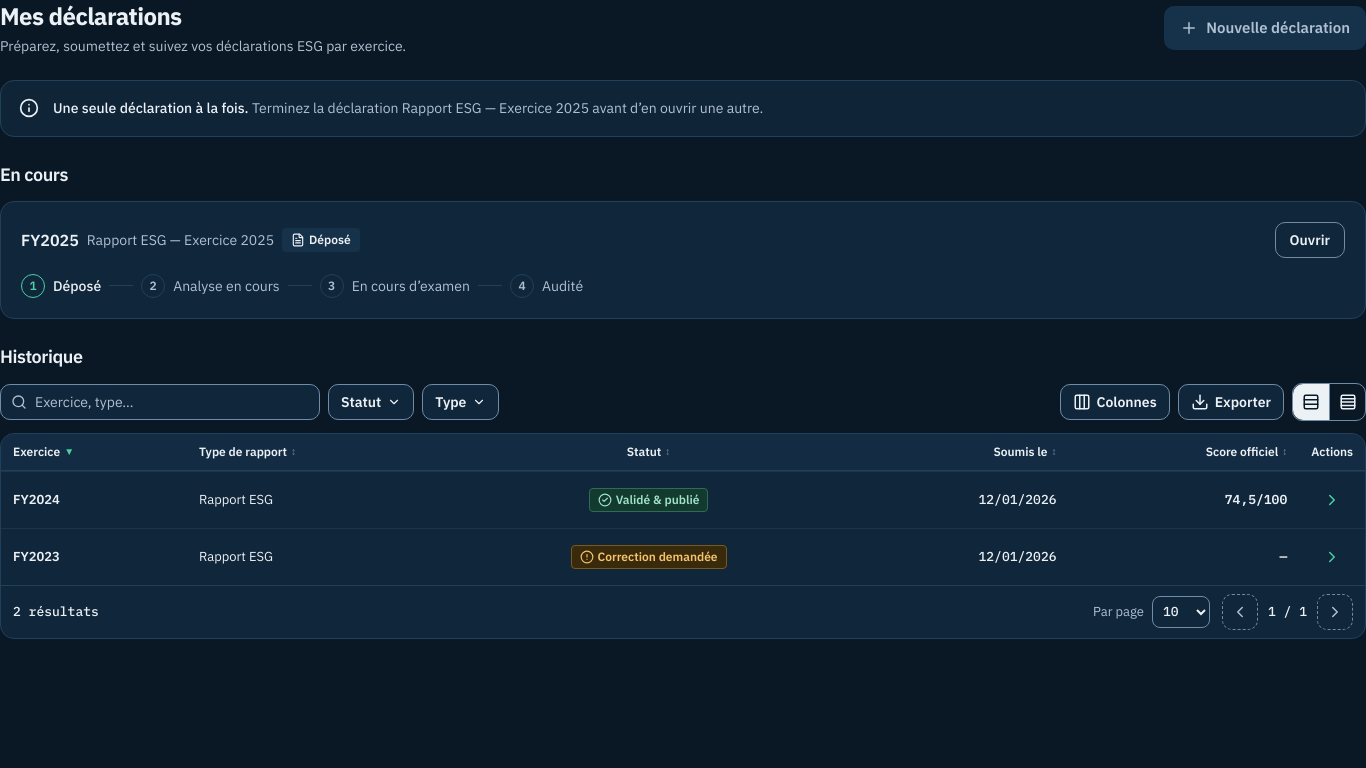
Test: Espace Entreprise — Mes déclarations › une seule session en cours, l’historique avec score, empreinte et synthèse
expect the text "FY2025" is shown: met, box [21,228,79,252]
expect the text "Déposé" is shown 2 times: met, box [282,228,360,252]; [53,276,101,296]
Click the button "Statut".
click(371, 402)  # box [328,384,414,420]
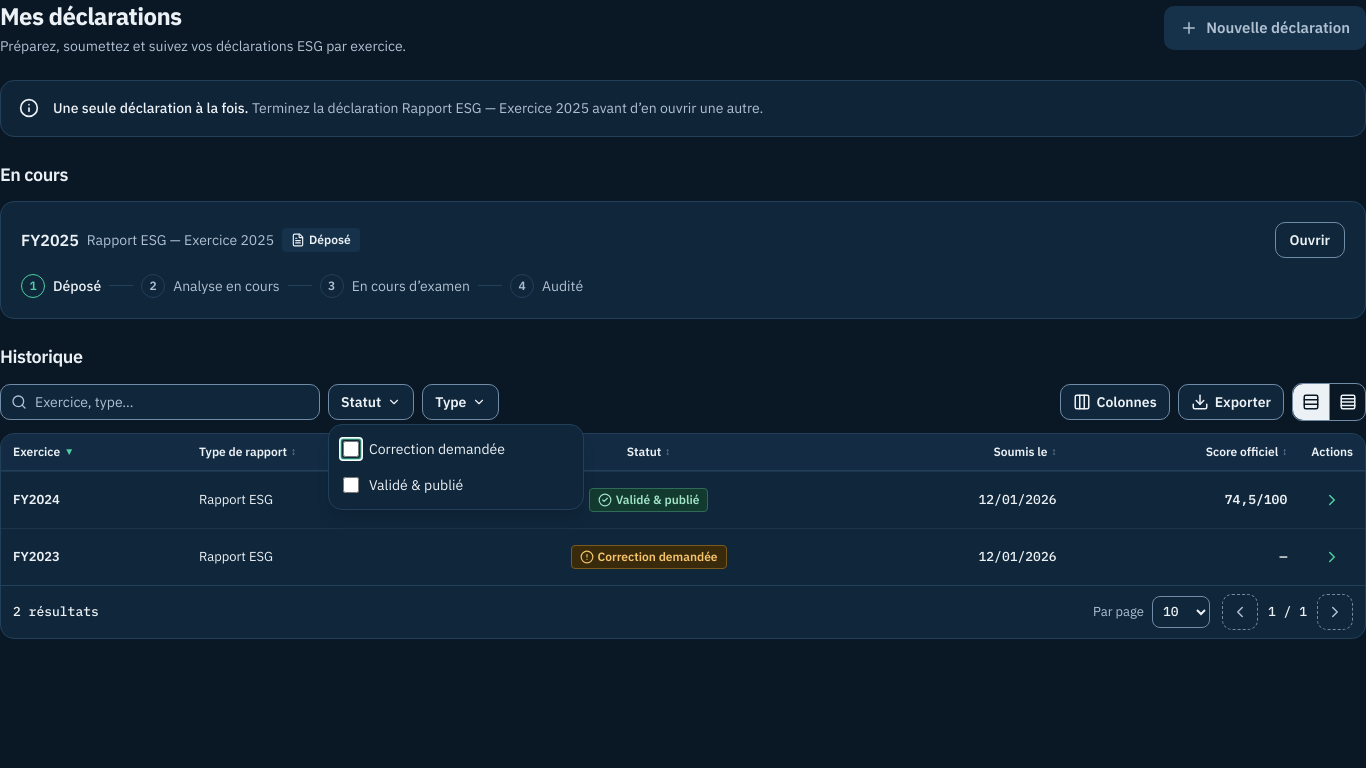
expect the checkbox labelled "Validé & publié" is shown: met, box [343,477,359,493]
Press Escape
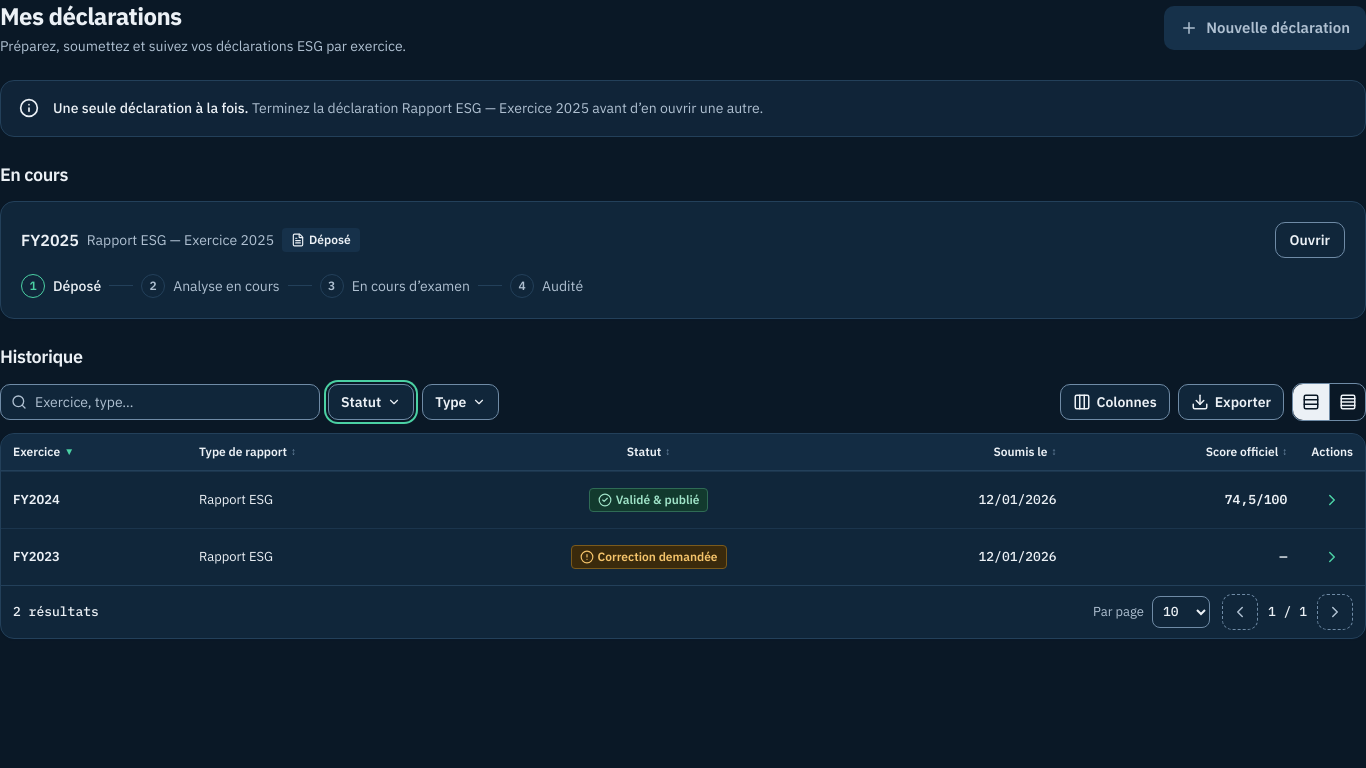
Click the button named "Voir le détail de FY2024".
click(1332, 500)  # box [1314,482,1350,518]
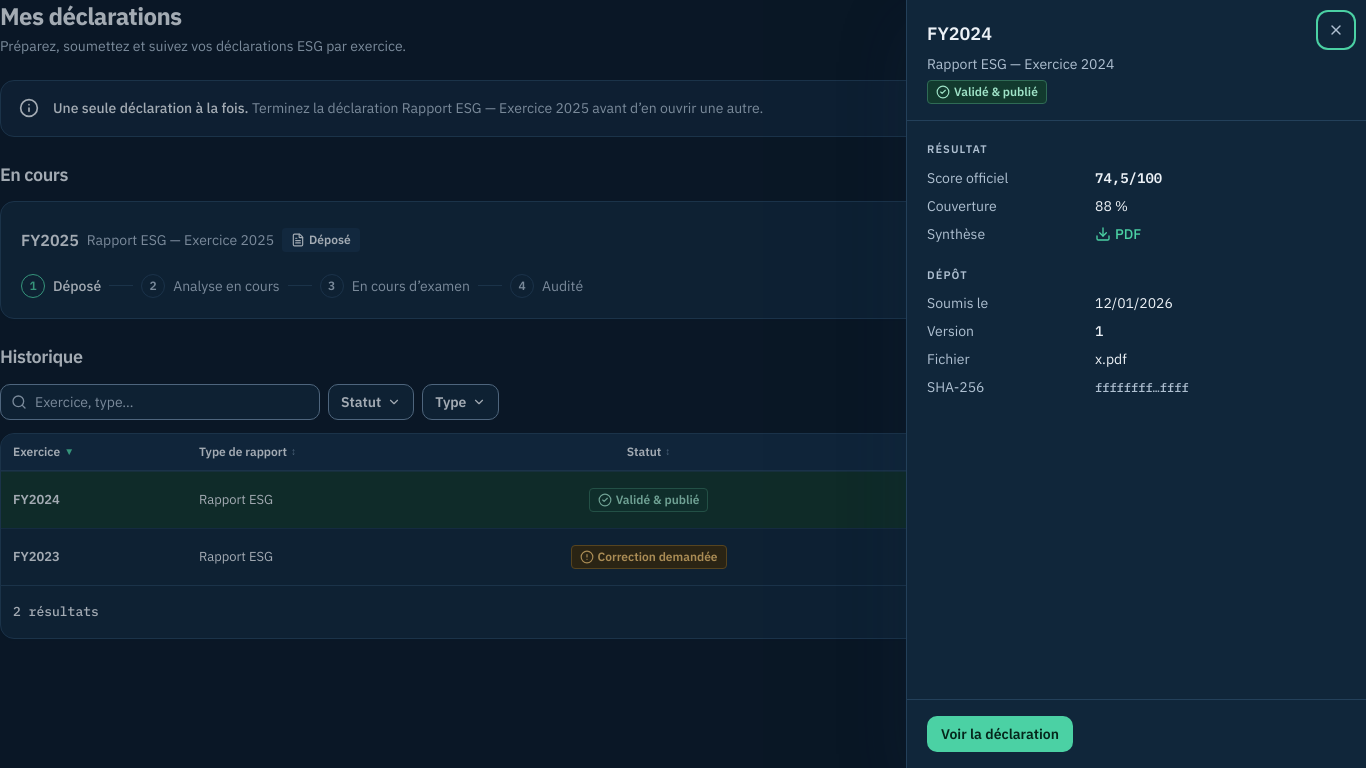
expect the row shows "FY2023": met, box [13,548,60,565]
expect the dialog shows "Validé & publié": met, box [954,84,1038,99]
